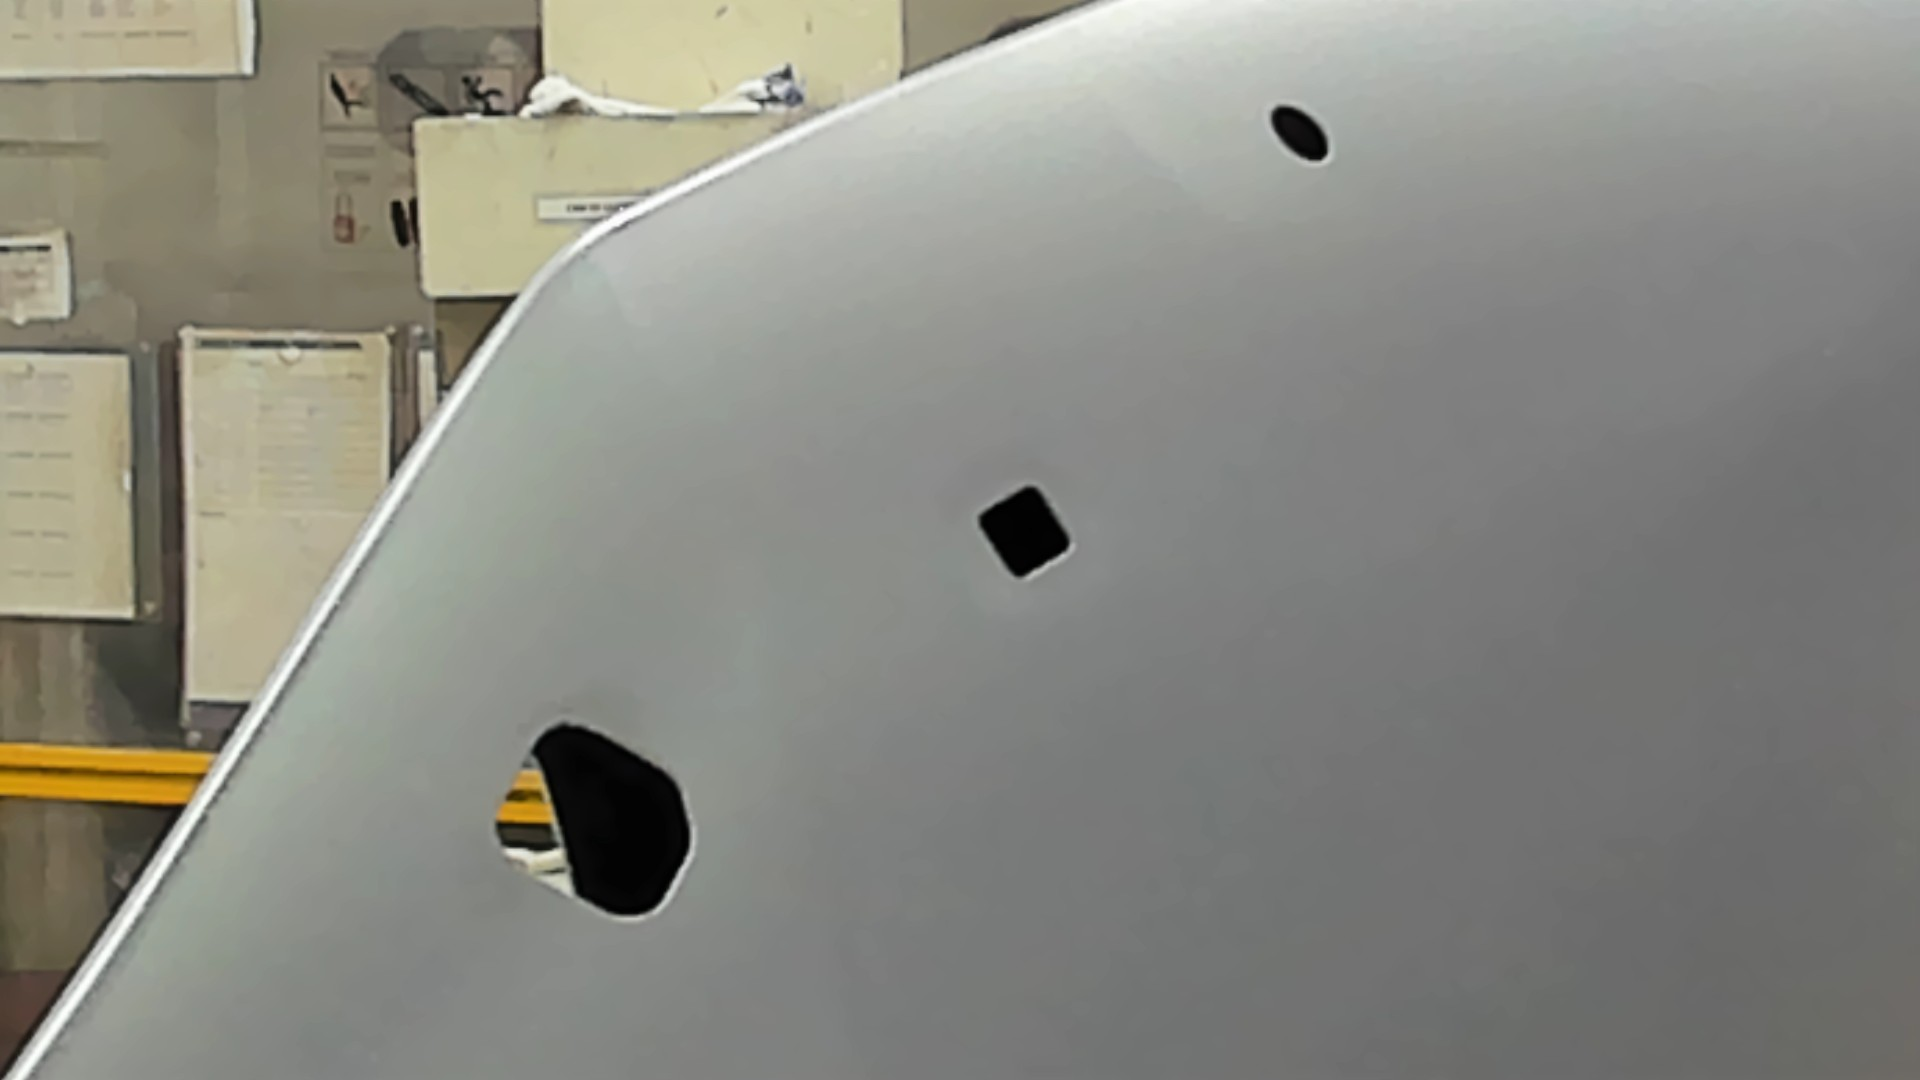chico: (1263, 98, 1337, 167)
grande: (487, 713, 702, 931)
mediano: (968, 481, 1077, 585)
